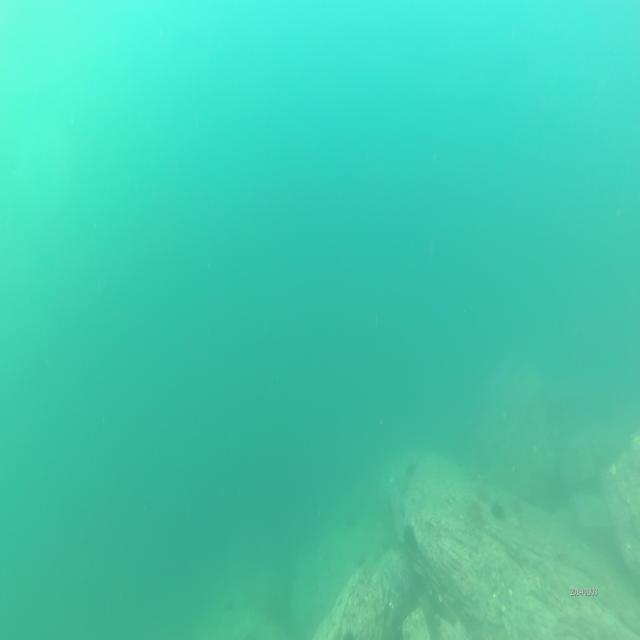echinus: (490, 496, 506, 525), (509, 492, 525, 520), (468, 495, 482, 523), (402, 522, 417, 548), (405, 460, 420, 480), (345, 513, 357, 532), (220, 598, 233, 613), (354, 554, 366, 568)
